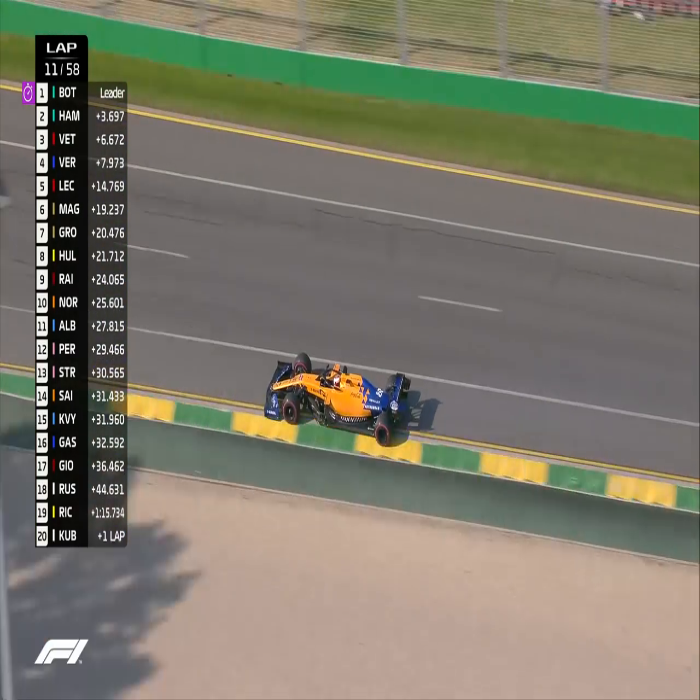f1_car: (249, 348, 427, 453)
